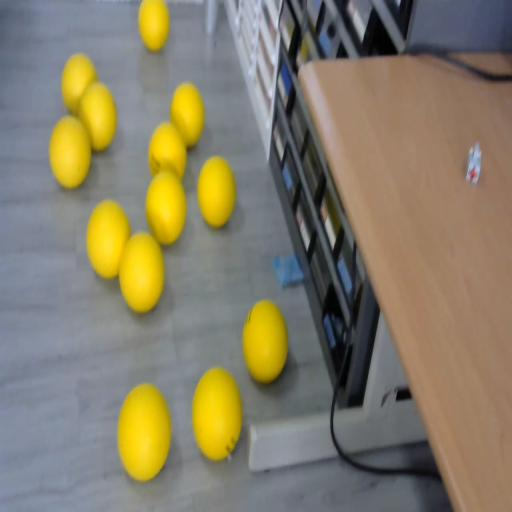FUEL: (116, 382, 172, 481), (191, 367, 243, 461), (242, 298, 288, 384), (118, 231, 165, 313), (85, 198, 131, 280), (144, 168, 188, 246), (48, 115, 92, 189), (196, 154, 237, 228), (78, 80, 118, 153), (170, 83, 205, 147), (138, 0, 170, 52)
